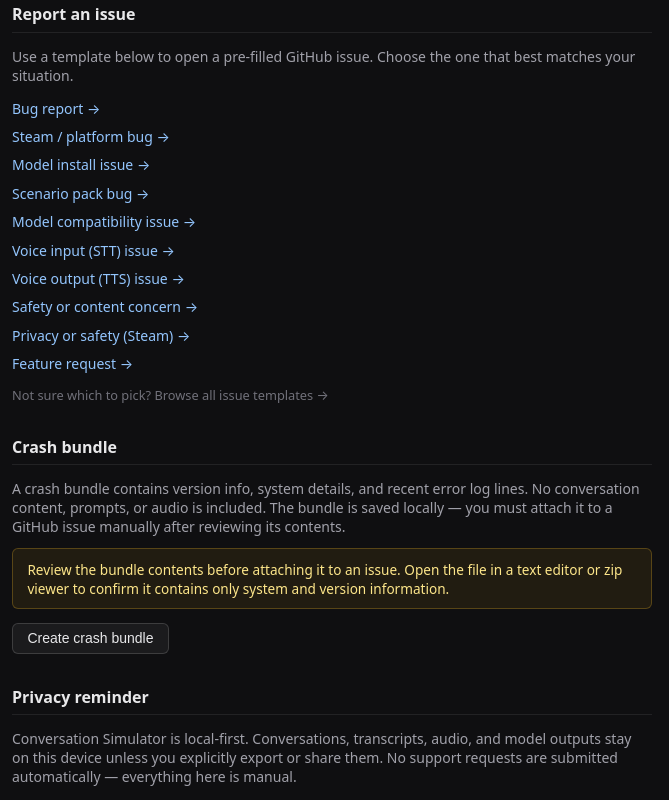
Test: crash bundle › shows an error when crash bundle creation fails
(page scrolled)
Click the button "Create crash bundle". click: (90, 638)
box: 12,623 -> 169,654
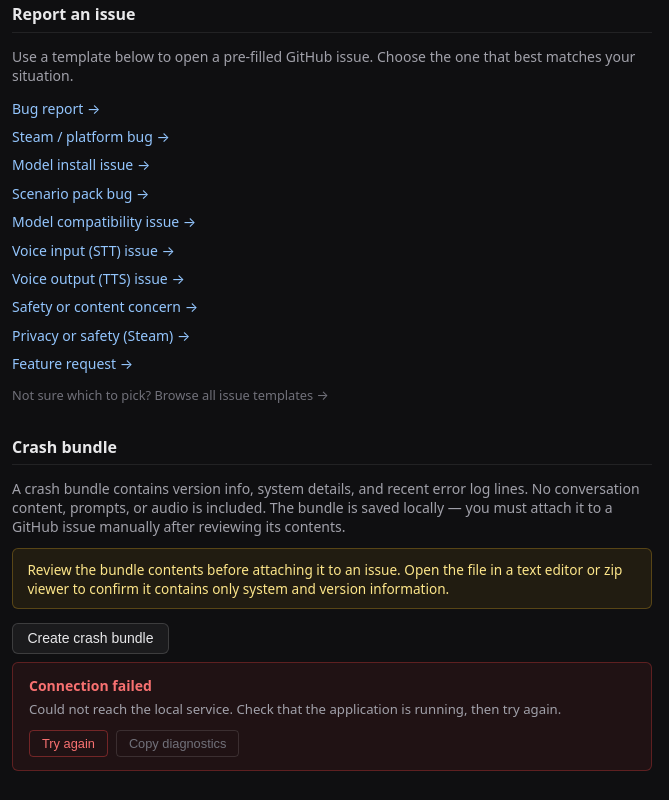
Now the message shows "Connection failed", box 29,676 -> 152,695
Now the element with test id "crash-bundle-error" is shown, box 12,662 -> 652,771
